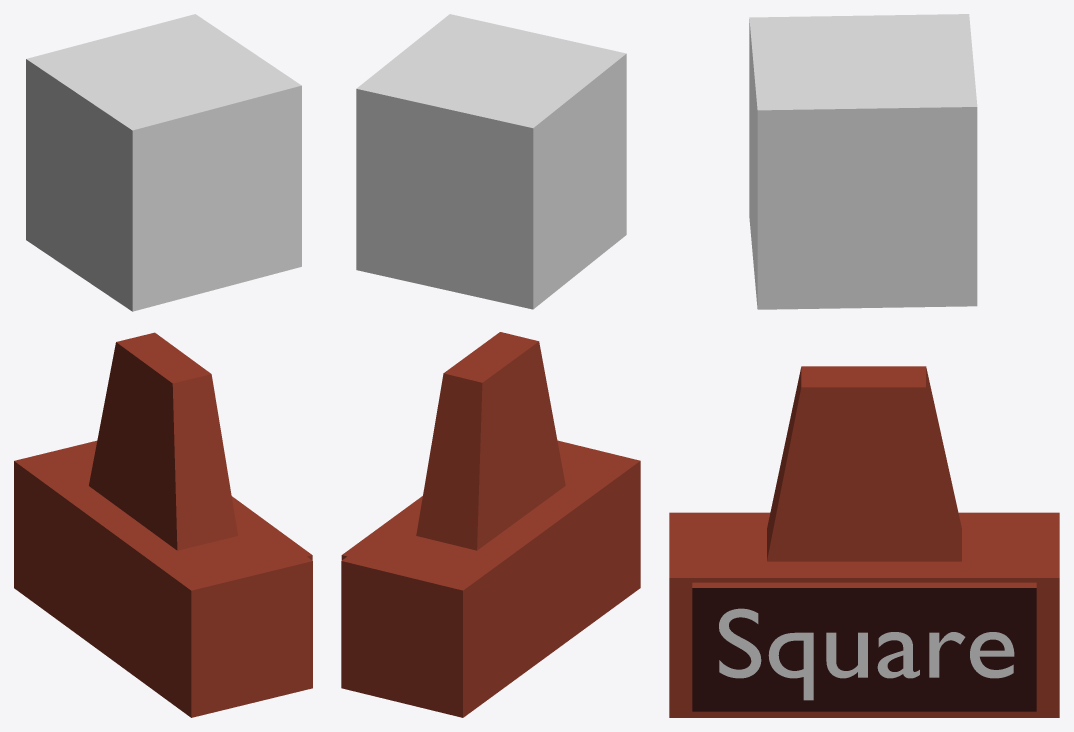
File: site of square.fbx
The picture shows the model from 3 angles, left to right: view 1: azimuth 30°, elevation 25°; view 2: azimuth 150°, elevation 25°; view 3: azimuth 270°, elevation 25°; orthographic projection. The views are drawn at different scales.
Visible parts, largest first — view 1: Cube, Cube.001; view 2: Cube, Cube.001; view 3: Cube, Cube.001, Text.
Part boxes in pixels (x1=…): Cube: x1=14, y1=332, x2=312, y2=717; Cube.001: x1=26, y1=14, x2=301, y2=311; Cube: x1=341, y1=332, x2=640, y2=717; Cube.001: x1=356, y1=14, x2=626, y2=309; Cube: x1=669, y1=366, x2=1059, y2=717; Cube.001: x1=749, y1=14, x2=977, y2=309; Text: x1=719, y1=608, x2=1014, y2=700.
Size of the model in its own units: 207 by 625 by 355.
